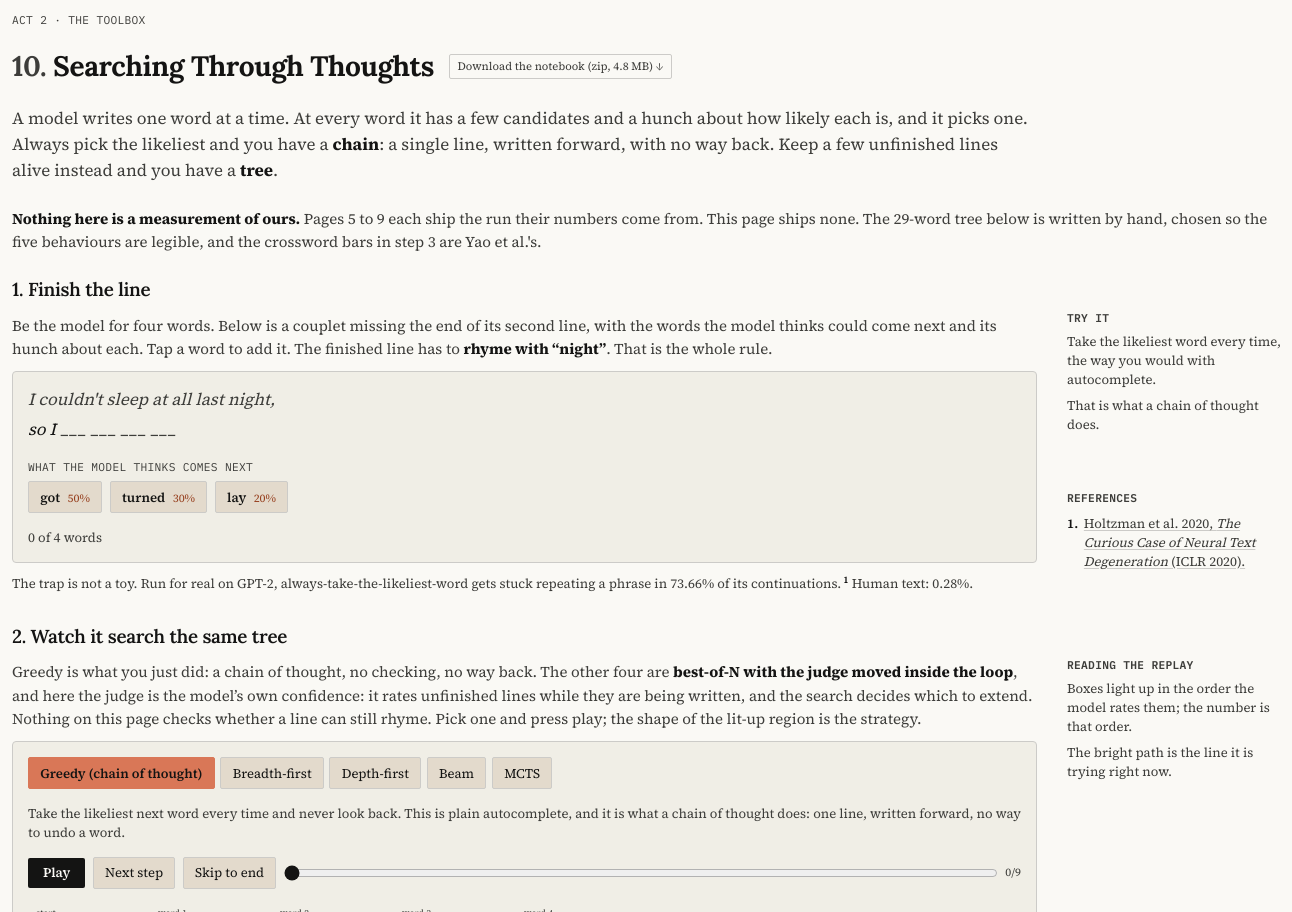
Test: Page 10 — step 2, the replay › play toggles to pause; scrubbing pauses
Click the button "Play" at x=57, y=873, box 28,858 -> 85,888
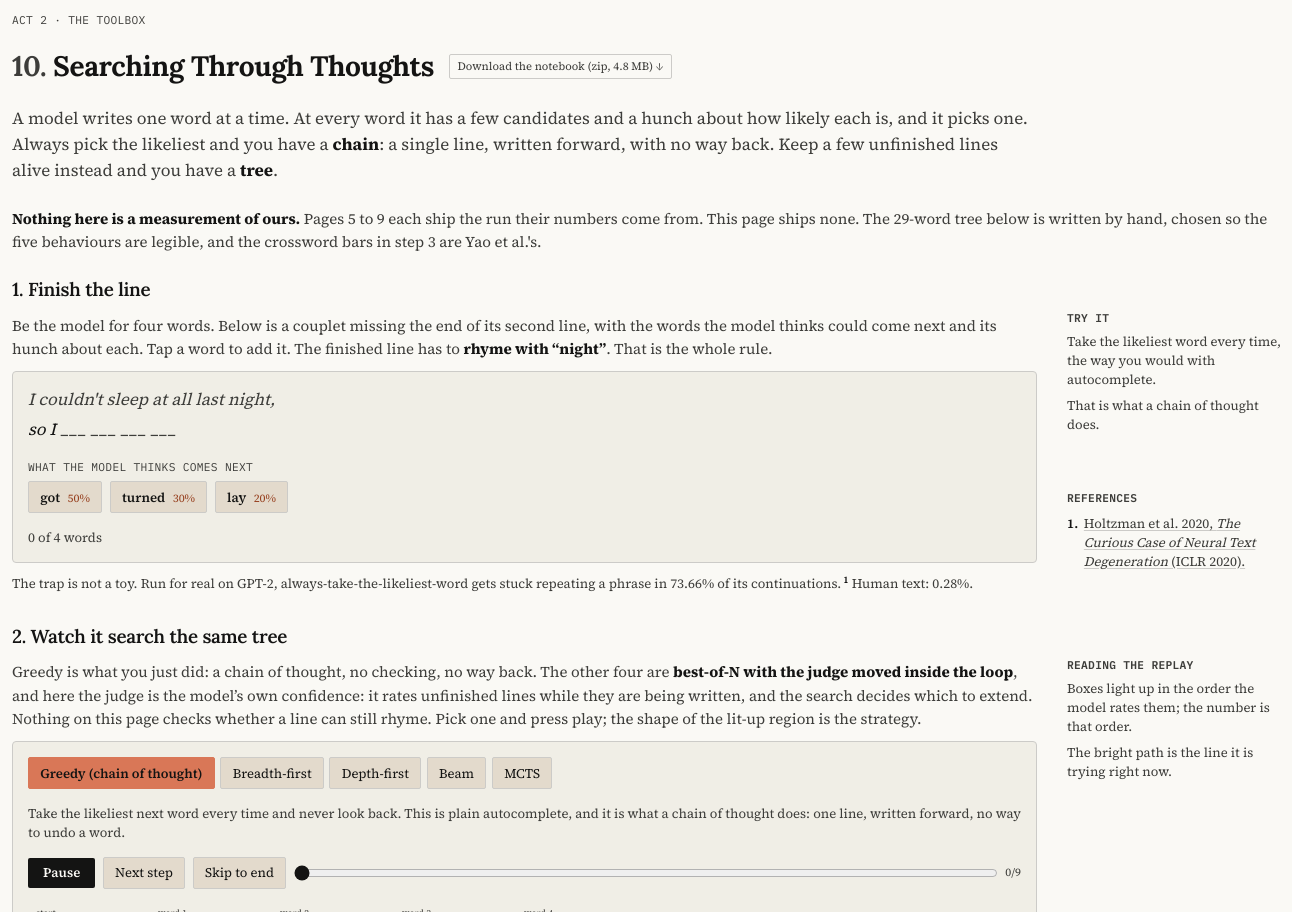
Check: the button "Pause" is shown, box 28,858 -> 95,888
Set the slider named "search step" to "3" at x=531, y=873, box 294,865 -> 998,881
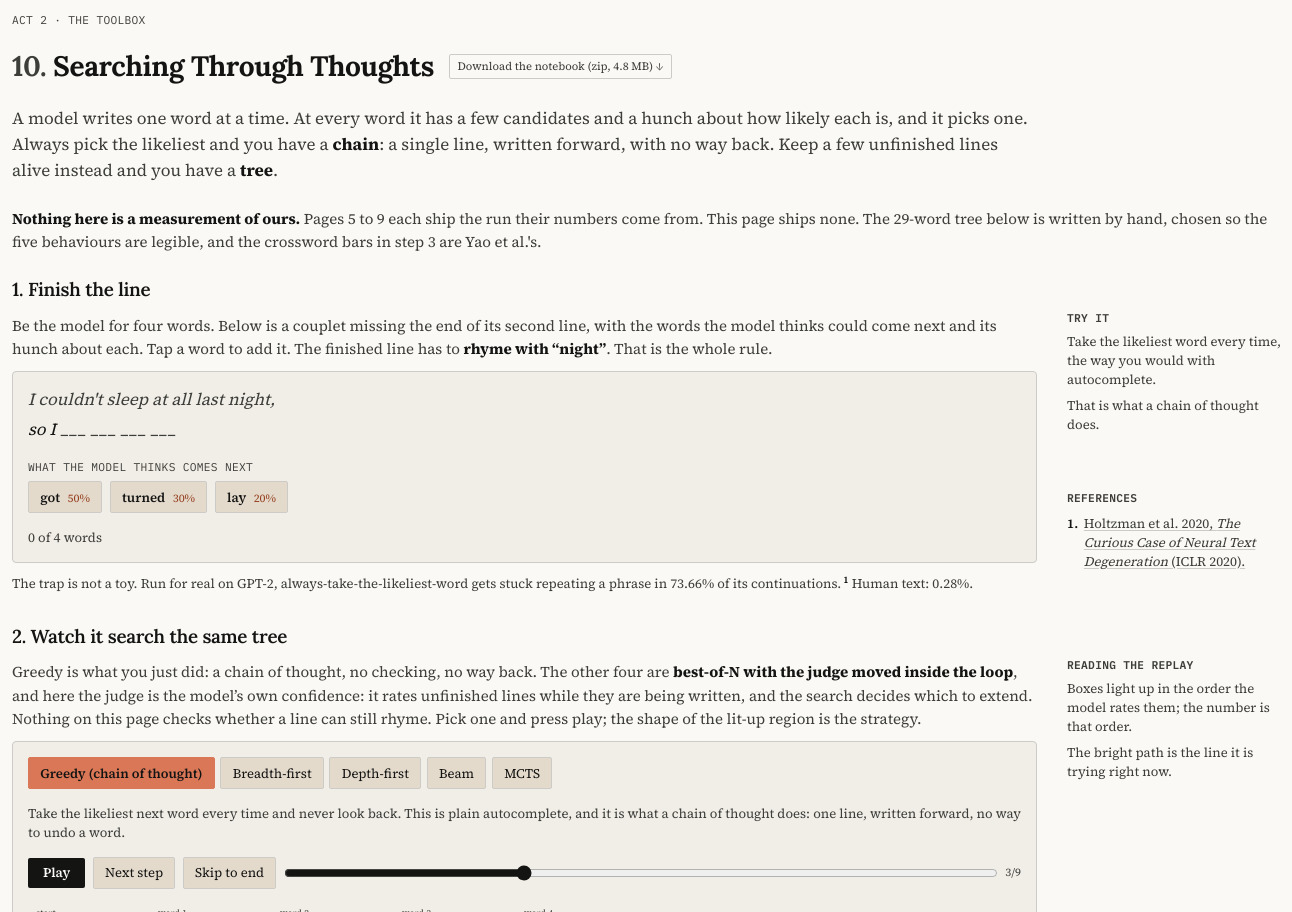
Check: the button "Play" is shown, box 28,858 -> 85,888
